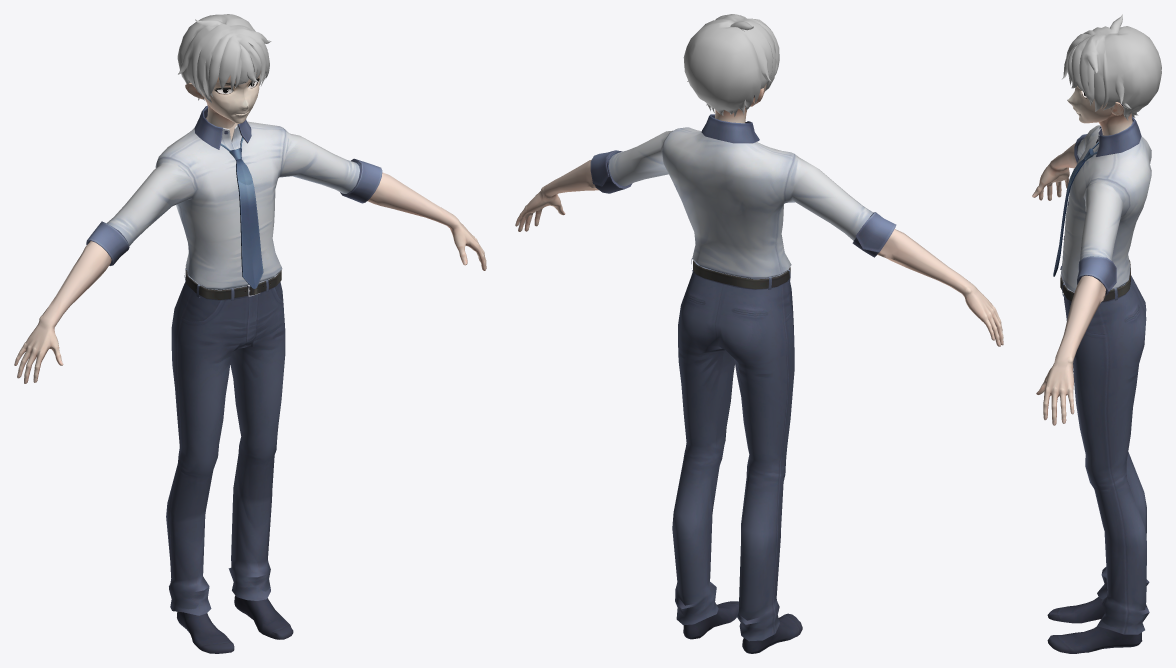
The model's file is MitaPlayer.fbx.
3 views of the same model, side by side, from view 1: azimuth 30°, elevation 25°; view 2: azimuth 150°, elevation 25°; view 3: azimuth 270°, elevation 25° (orthographic). The views are drawn at different scales.
Visible parts, largest first — view 1: Player_mesh; view 2: Player_mesh; view 3: Player_mesh.
Part boxes in pixels (bbox=[...]): Player_mesh: bbox=[14, 14, 486, 653]; Player_mesh: bbox=[515, 14, 1003, 653]; Player_mesh: bbox=[1032, 14, 1161, 653].
Size of the model in its own units: 161 by 38.76 by 199.
